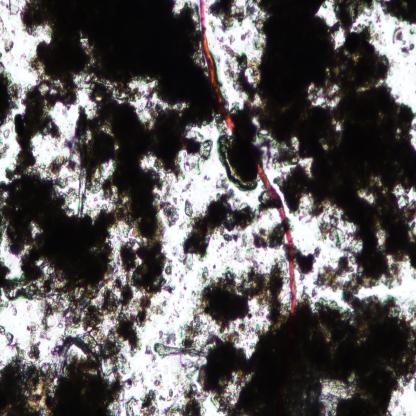Background material: (257, 0, 416, 291), (20, 0, 210, 127), (228, 293, 416, 416), (0, 173, 119, 305), (75, 88, 214, 172), (0, 329, 123, 415), (104, 157, 175, 294), (7, 76, 77, 178), (36, 290, 153, 350), (177, 188, 256, 272), (197, 258, 286, 324), (218, 102, 262, 188), (222, 41, 258, 103), (310, 257, 352, 297), (0, 59, 23, 128), (207, 1, 257, 32), (163, 381, 208, 415), (376, 0, 416, 30), (47, 136, 75, 178), (252, 222, 285, 253), (295, 244, 322, 278), (181, 314, 206, 342), (26, 321, 41, 361), (0, 16, 15, 55), (140, 388, 159, 416), (221, 230, 250, 247), (258, 194, 276, 215), (122, 370, 140, 390), (0, 128, 11, 159), (124, 396, 140, 416), (0, 0, 19, 16), (158, 330, 176, 345), (0, 325, 14, 344), (393, 25, 405, 45), (152, 300, 166, 317), (182, 198, 195, 216), (181, 177, 195, 193), (216, 175, 229, 192), (402, 41, 414, 57), (152, 372, 163, 388), (240, 30, 252, 43), (166, 387, 173, 402), (202, 174, 212, 183), (158, 394, 166, 402)
Cellulose filter fibre: (192, 327, 253, 404), (77, 129, 88, 219), (152, 341, 208, 358)
Microfibre: (258, 166, 297, 315), (198, 0, 235, 132)
